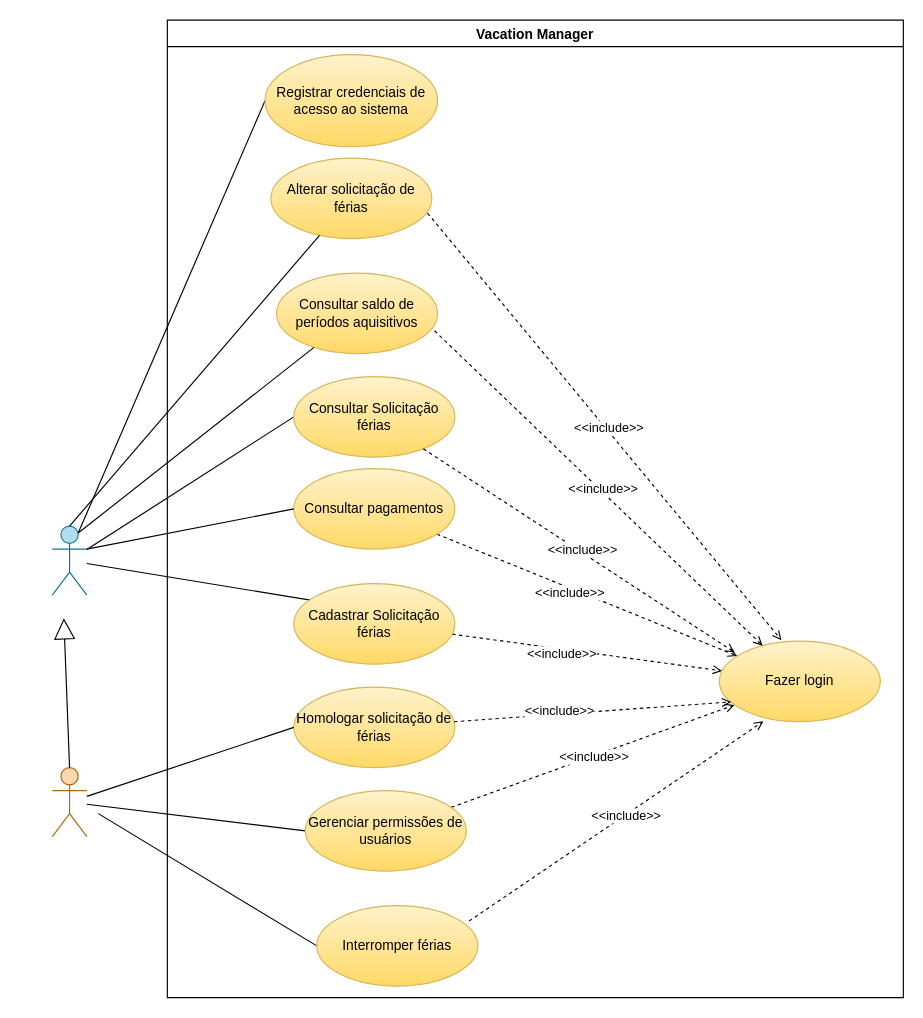
The diagram is 923 pixels wide and 1018 high, and some of its shapes have lost their labels. The centre of each missing label's shape, as x and y in pixels:
"Gestor" belongs at point (69, 801).
"Servidor Público" belongs at point (69, 560).
